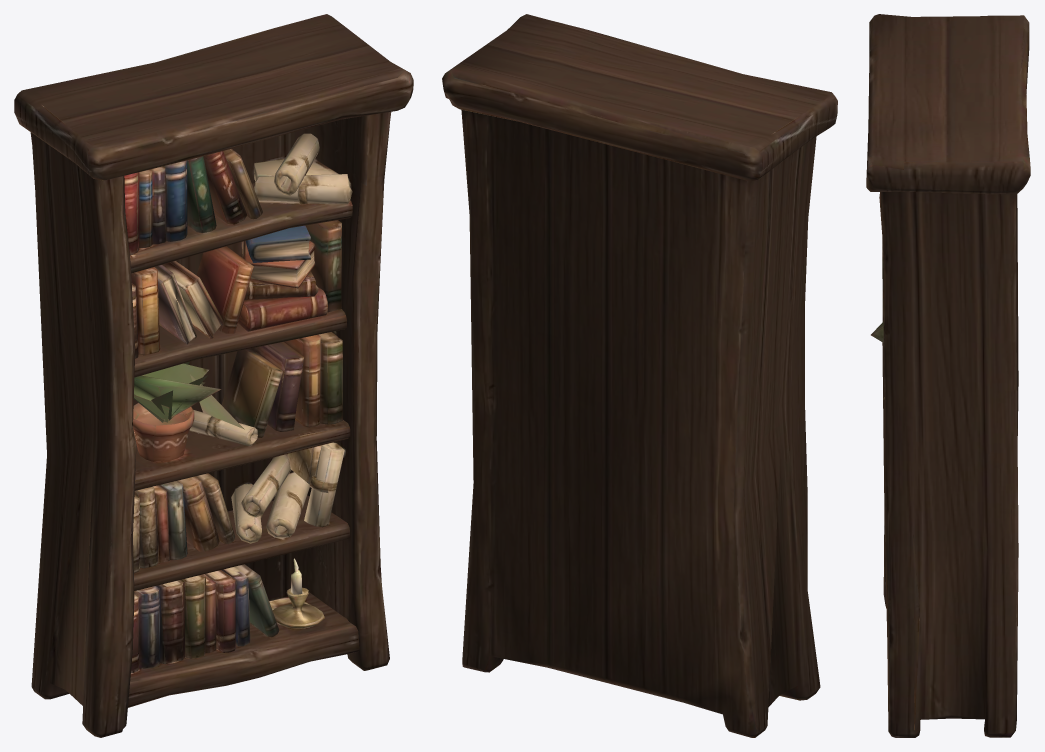
Rendered from cozy-bookshelf.glb.
3 renders of one model, left to right at view 1: azimuth 30°, elevation 25°; view 2: azimuth 150°, elevation 25°; view 3: azimuth 270°, elevation 25°, orthographic. The views are drawn at different scales.
Size of the model in its own units: 0.562 by 1 by 0.2557.
1 material, 1 textured.
